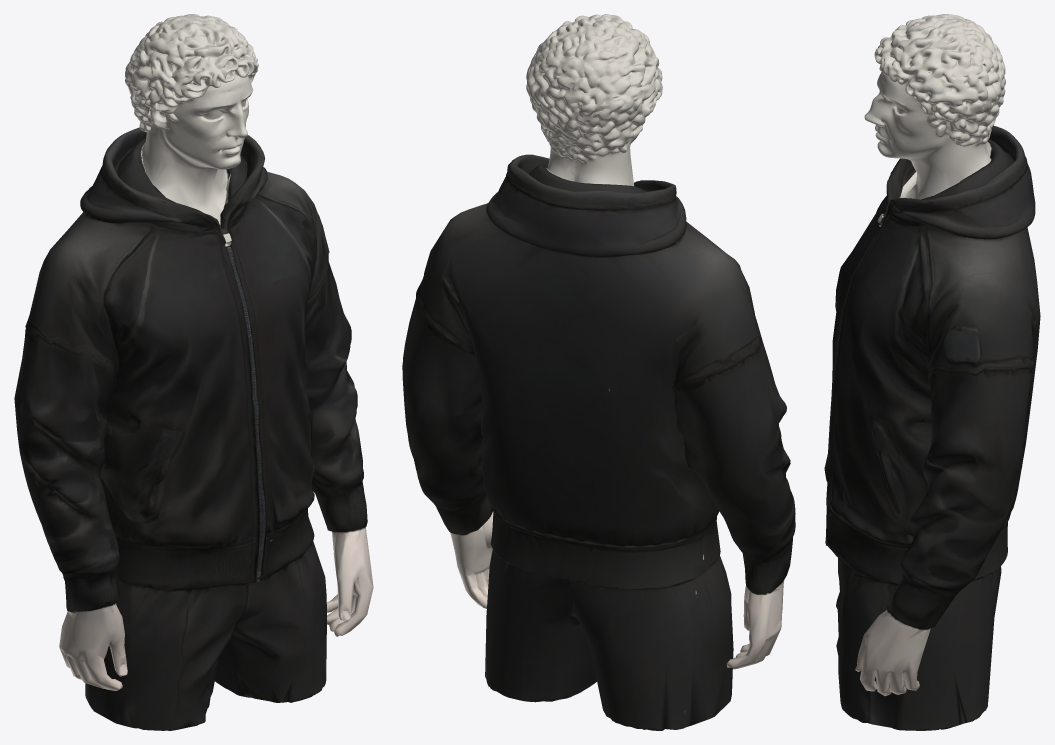
Rendered from hoodie-sculpture-crest.glb.
The picture shows the model from 3 angles, left to right: view 1: azimuth 30°, elevation 25°; view 2: azimuth 150°, elevation 25°; view 3: azimuth 270°, elevation 25°; orthographic projection. The views are drawn at different scales.
Parts seen in each view (by area): view 1: model; view 2: model; view 3: model.
Part boxes in pixels (bbox=[...]): model: bbox=[14, 14, 373, 730]; model: bbox=[402, 14, 795, 730]; model: bbox=[824, 14, 1040, 730].
Bounding box in the file's own units: 1.03 × 1.9 × 0.5652.
Materials: 2 (1 with a texture image).
